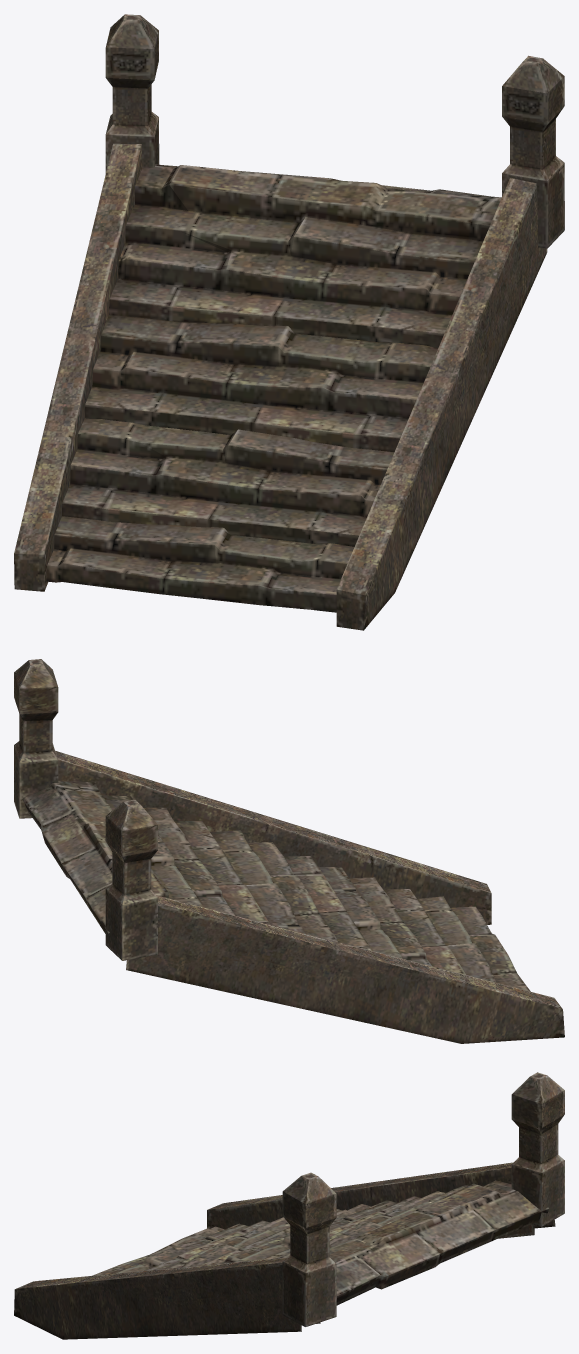
Rendered from miniboss_03.fbx.
3 renders of one model, top to bottom at view 1: azimuth 30°, elevation 25°; view 2: azimuth 150°, elevation 25°; view 3: azimuth 270°, elevation 25°, orthographic. The views are drawn at different scales.
Parts seen in each view (by area): view 1: miniboss_03; view 2: miniboss_03; view 3: miniboss_03.
Boxes of the visible parts, x1,y1,x2,y2 form: miniboss_03: [14, 14, 564, 630]; miniboss_03: [14, 659, 564, 1043]; miniboss_03: [14, 1072, 564, 1339].
Bounding box in the file's own units: 30.9 × 17.1 × 30.64.
